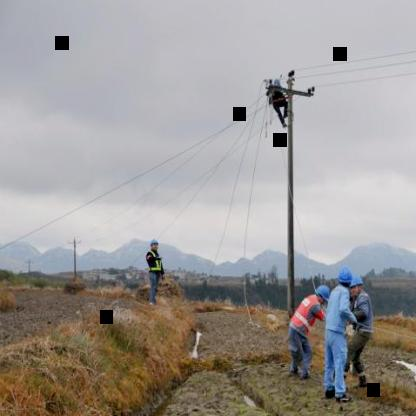helmet: (312, 282, 334, 306), (334, 264, 354, 290), (349, 274, 365, 298), (148, 236, 161, 252)
